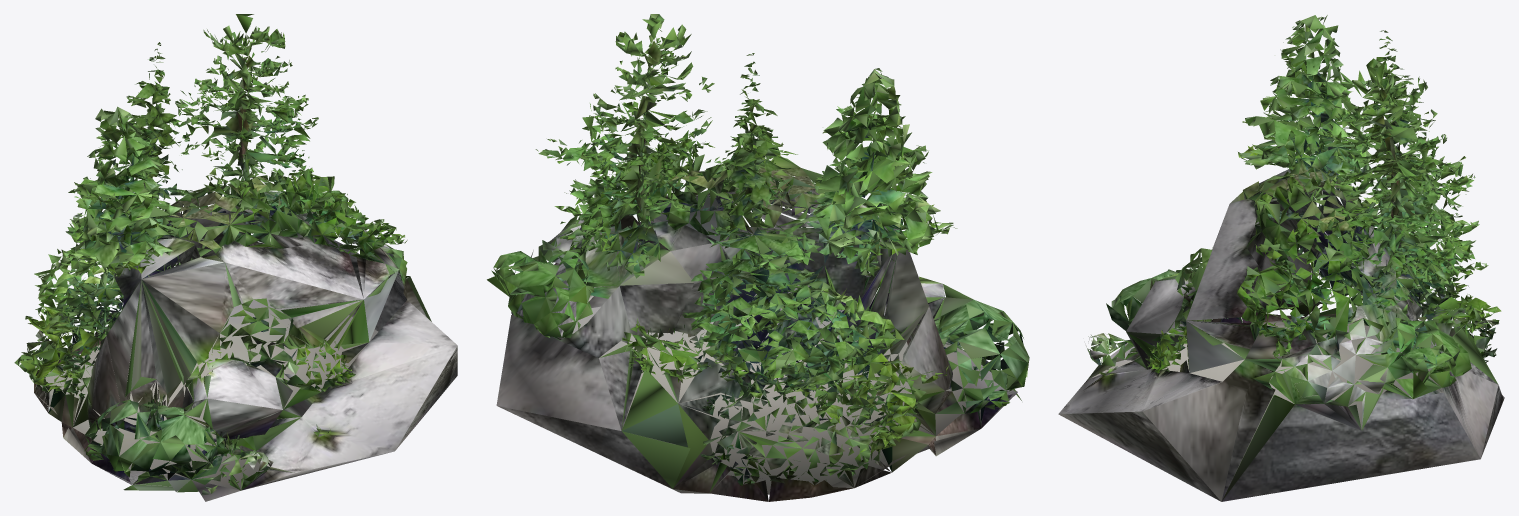
File: Pine_Trees_on_a_Rocky_town.glb
3 views of the same model, side by side, from view 1: azimuth 30°, elevation 25°; view 2: azimuth 150°, elevation 25°; view 3: azimuth 270°, elevation 25° (orthographic). The views are drawn at different scales.
Visible parts, largest first — view 1: Pine_Trees_on_a_Rocky; view 2: Pine_Trees_on_a_Rocky; view 3: Pine_Trees_on_a_Rocky.
Boxes of the visible parts, left/top/right/bottom form: Pine_Trees_on_a_Rocky: left=14, top=14, right=457, bottom=501; Pine_Trees_on_a_Rocky: left=487, top=14, right=1029, bottom=501; Pine_Trees_on_a_Rocky: left=1058, top=15, right=1504, bottom=501.
Size of the model in its own units: 1.92 by 1.75 by 1.87.
1 material, 1 textured.
